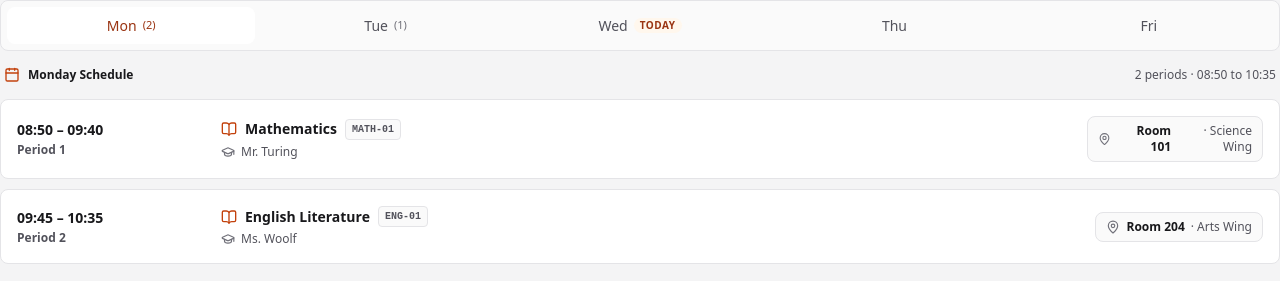
Scenario: StudentDailyTimetable component › switches displayed periods when clicking a different day tab
The width and height of the screenshot is (1280, 281).
Check: the text "Mathematics" is shown, box [245,119,337,139]
Check: the text "Physics" is not shown
Click the button "Tue (1)": {"x": 386, "y": 26} [261,7,510,44]
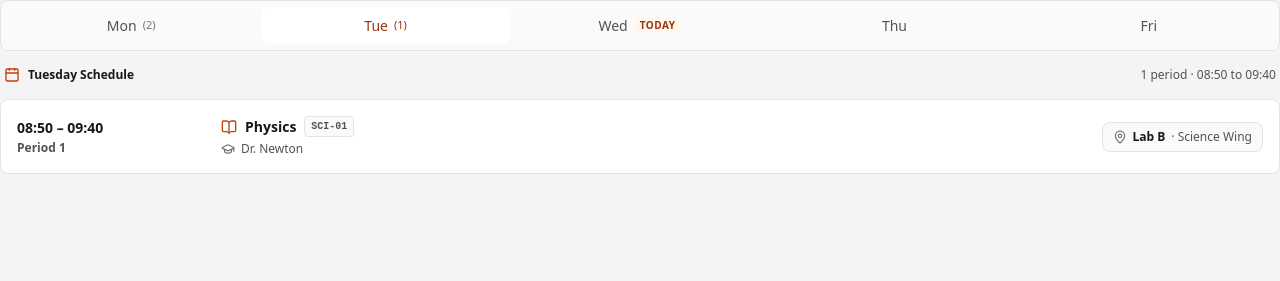
Check: the text "Tuesday Schedule" is shown, box [28,67,134,83]
Check: the text "Physics" is shown, box [245,116,296,136]
Check: the text "Dr. Newton" is shown, box [241,141,303,157]
